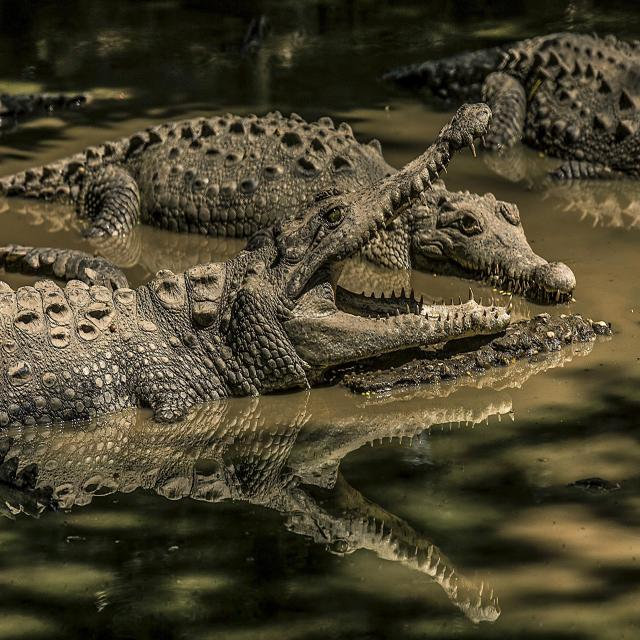crocodile: (4, 102, 583, 426)
